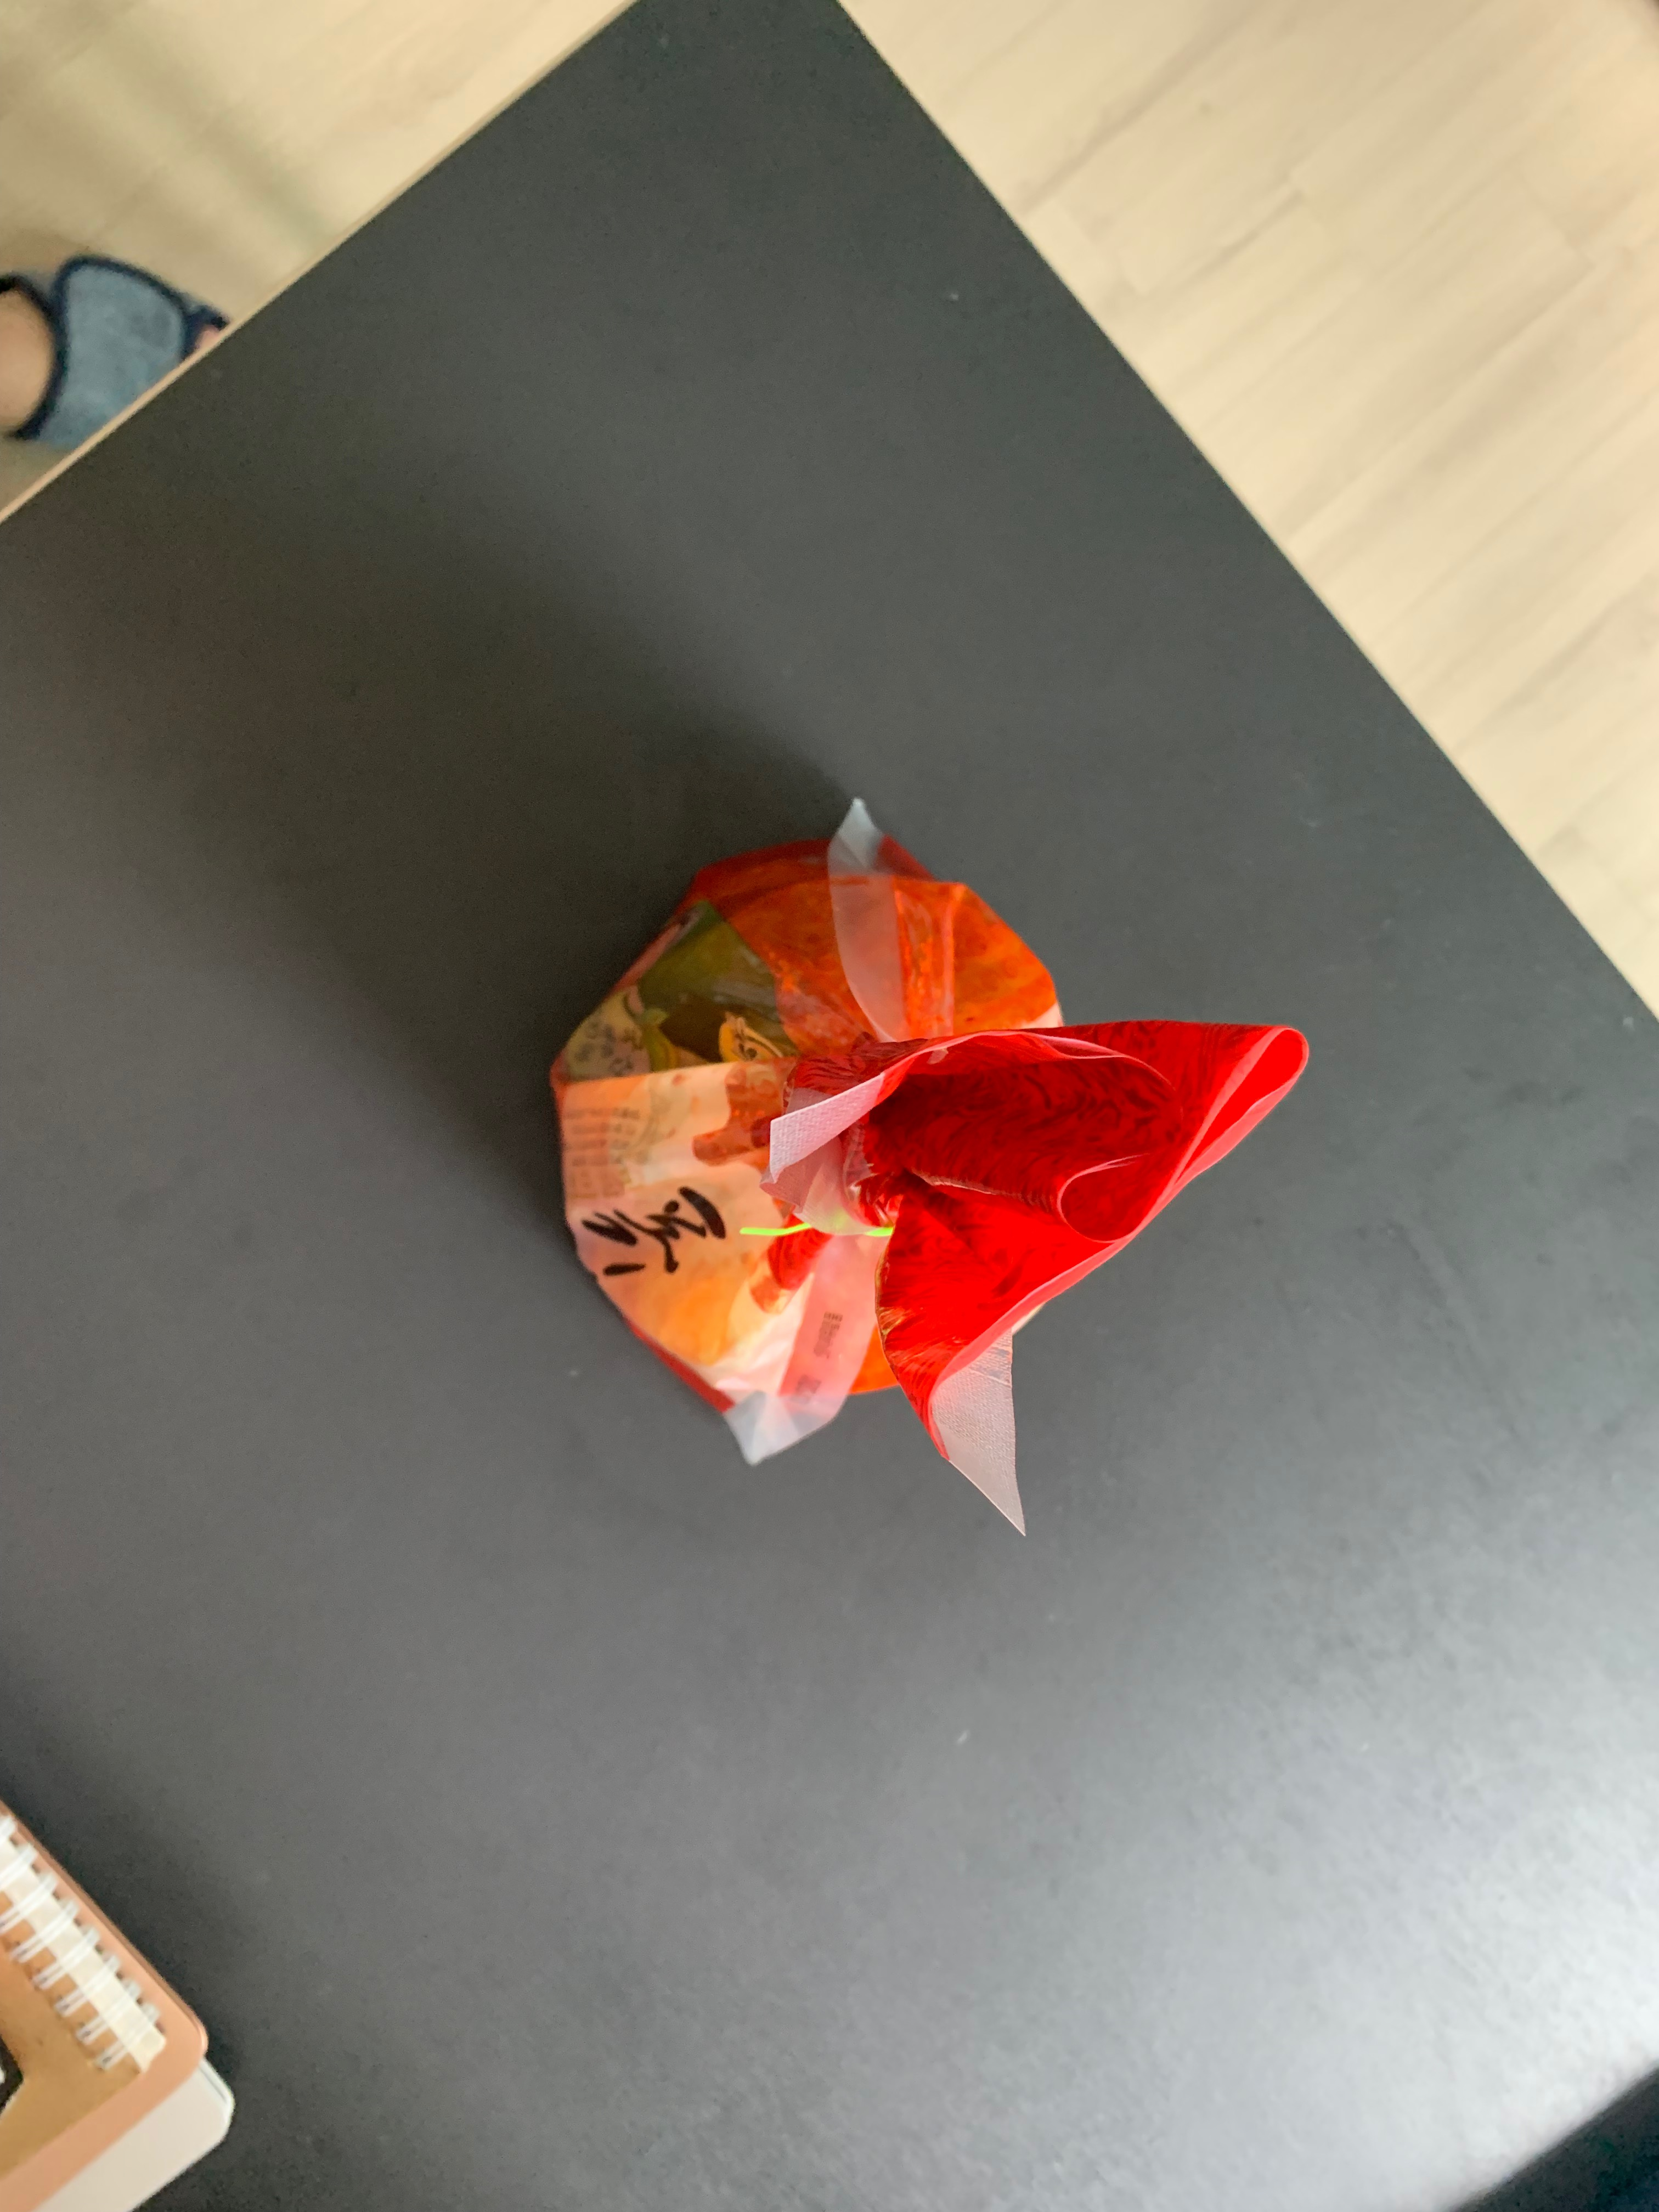kimchi: (549, 840, 1309, 1421)
